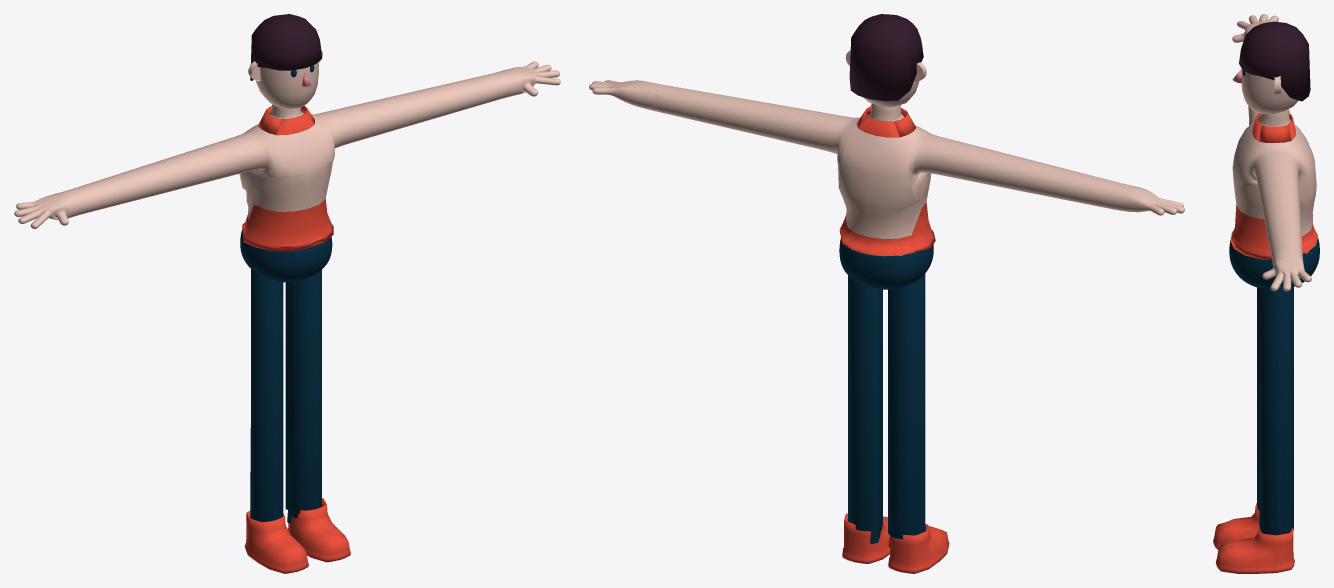
Rendered from boyy.fbx.
3 views of the same model, side by side, from view 1: azimuth 30°, elevation 25°; view 2: azimuth 150°, elevation 25°; view 3: azimuth 270°, elevation 25° (orthographic). The views are drawn at different scales.
Visible parts, largest first — view 1: Vert, Cylinder, Cube, jumper, hair.001, trauser, hair; view 2: Vert, Cylinder, hair.001, Cube, jumper, trauser; view 3: Vert, Cylinder, hair.001, Cube, jumper, trauser, hair.
Boxes of the visible parts, x1,y1,x2,y2 form: Vert: (14, 61, 560, 228); Cylinder: (250, 269, 321, 523); Cube: (244, 498, 350, 573); jumper: (242, 105, 333, 250); hair.001: (250, 14, 321, 80); trauser: (240, 229, 332, 282); hair: (256, 61, 318, 108); Vert: (589, 80, 1184, 239); Cylinder: (848, 274, 925, 547); hair.001: (849, 14, 923, 101); Cube: (842, 513, 949, 573); jumper: (839, 106, 935, 256); trauser: (839, 237, 933, 289); Vert: (1232, 14, 1316, 291); Cylinder: (1257, 285, 1293, 535); hair.001: (1239, 21, 1310, 101); Cube: (1213, 503, 1294, 573); jumper: (1230, 113, 1317, 259); trauser: (1229, 238, 1319, 287); hair: (1241, 69, 1298, 113).
Bounding box in the file's own units: 1691 × 1537 × 280.
